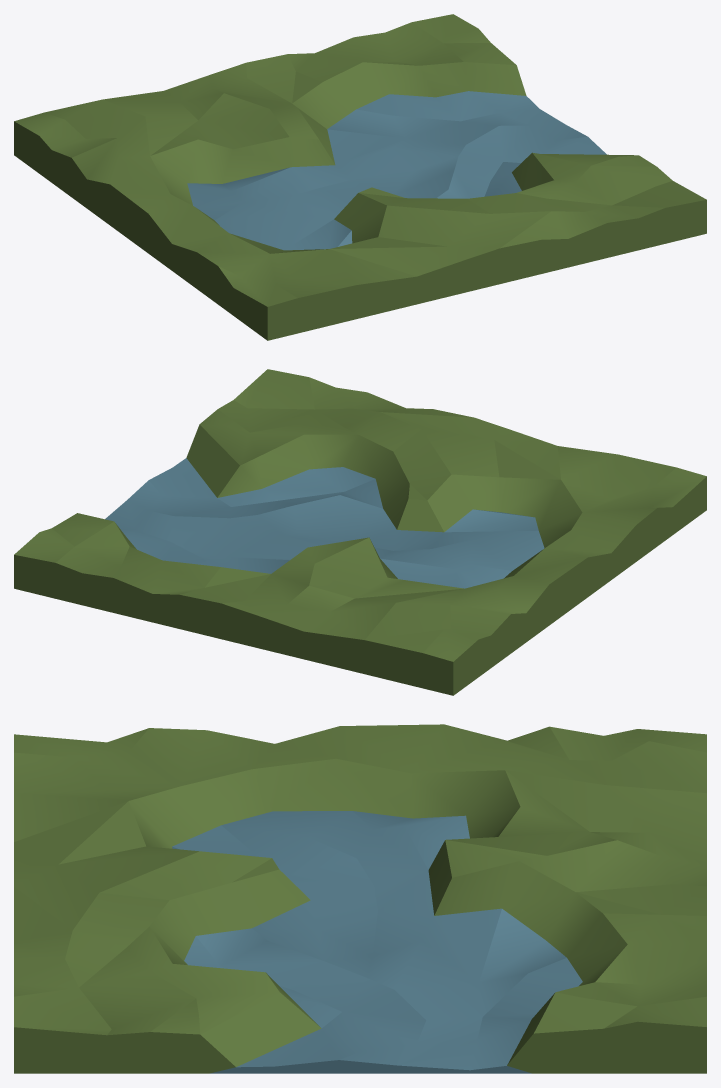
The model's file is Water_River_Ending_L.glb.
The picture shows the model from 3 angles, top to bottom: view 1: azimuth 30°, elevation 25°; view 2: azimuth 150°, elevation 25°; view 3: azimuth 270°, elevation 25°; orthographic projection. The views are drawn at different scales.
Visible parts, largest first — view 1: Water_River_Ending_L; view 2: Water_River_Ending_L; view 3: Water_River_Ending_L.
Boxes of the visible parts, <box> form: Water_River_Ending_L: <box>14,14,706,340</box>; Water_River_Ending_L: <box>14,369,706,695</box>; Water_River_Ending_L: <box>14,724,706,1073</box>.
Bounding box in the file's own units: 1.47 × 0.1462 × 1.47.
